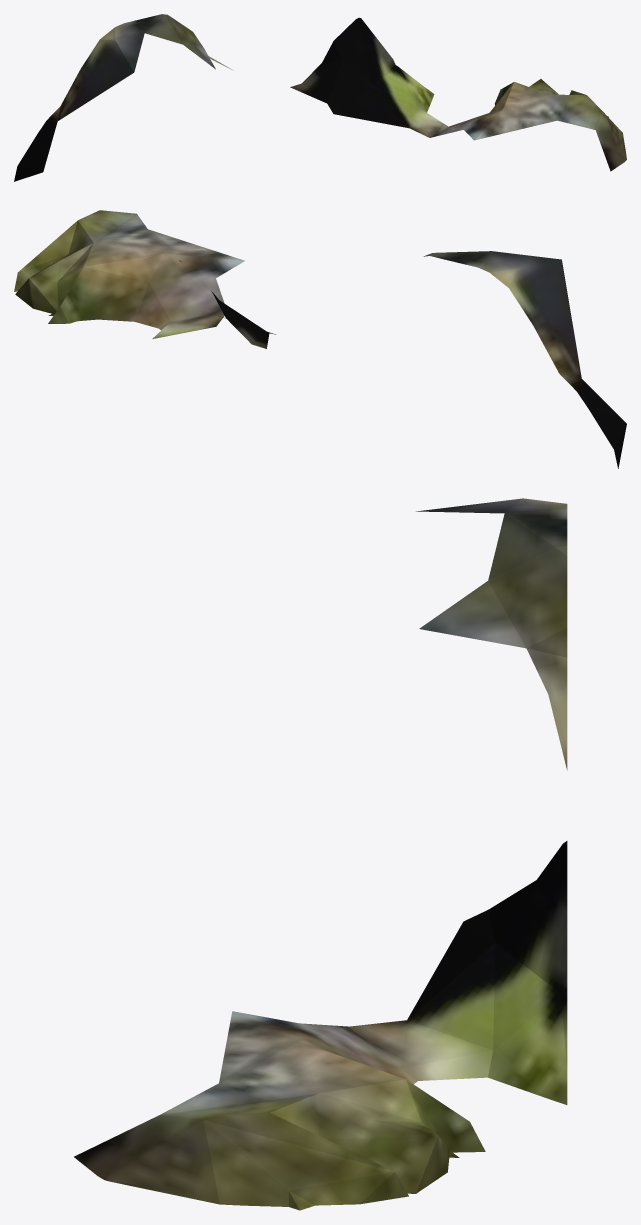
The picture shows the model from 3 angles, top to bottom: view 1: azimuth 30°, elevation 25°; view 2: azimuth 150°, elevation 25°; view 3: azimuth 270°, elevation 25°; orthographic projection. The views are drawn at different scales.
Bounding box in the file's own units: 14.32 × 3.8 × 5.8.
1 material, 1 textured.
